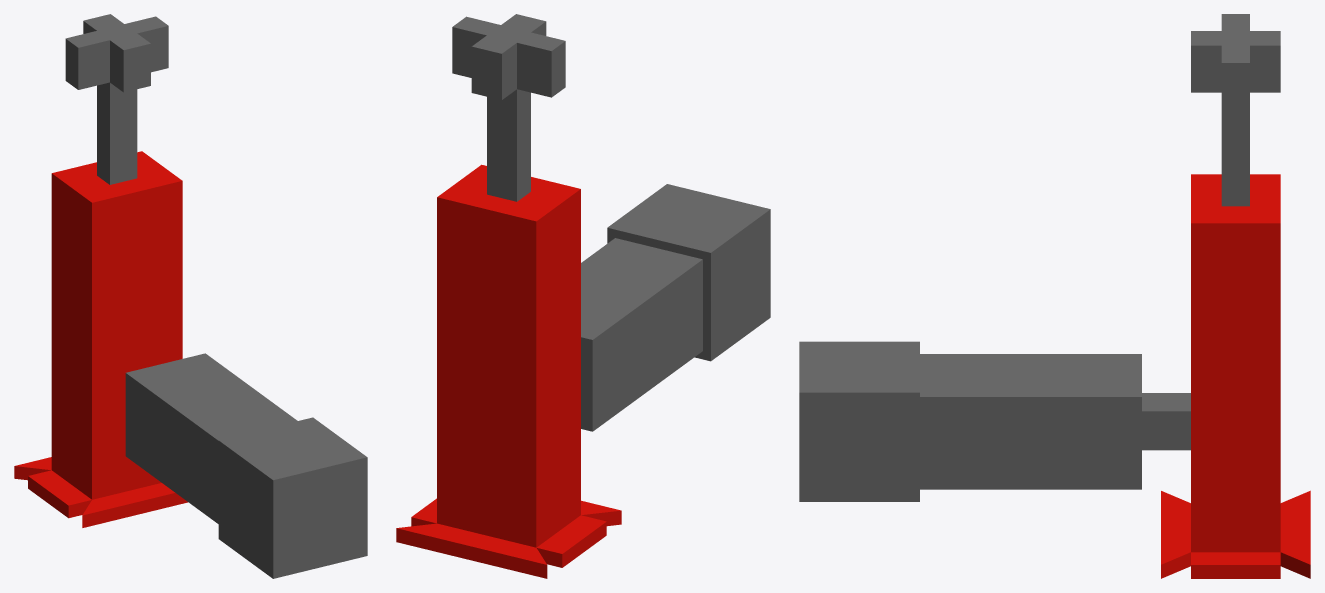
File: Tower_1.fbx
The picture shows the model from 3 angles, left to right: view 1: azimuth 30°, elevation 25°; view 2: azimuth 150°, elevation 25°; view 3: azimuth 270°, elevation 25°; orthographic projection. The views are drawn at different scales.
Visible parts, largest first — view 1: Tower_1; view 2: Tower_1; view 3: Tower_1.
Part boxes in pixels (left/top/right/bottom): Tower_1: left=14, top=14, right=367, bottom=578; Tower_1: left=396, top=14, right=770, bottom=578; Tower_1: left=799, top=14, right=1310, bottom=578.
Bounding box in the file's own units: 292 × 921 × 848.
